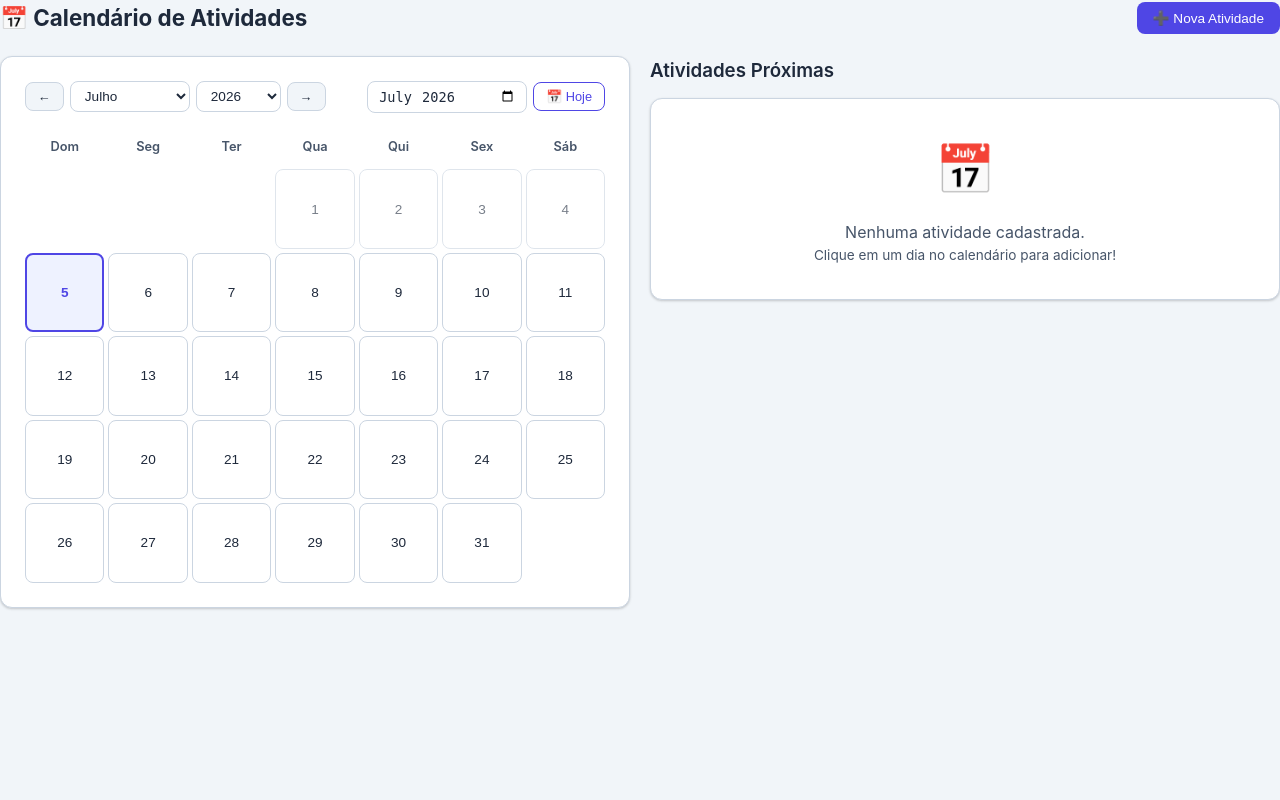
CalendarView › opens the new assignment modal when clicking 'Nova Atividade'
The image size is (1280, 800).
Click the button "➕ Nova Atividade": click(1208, 18) [1137,2,1279,34]
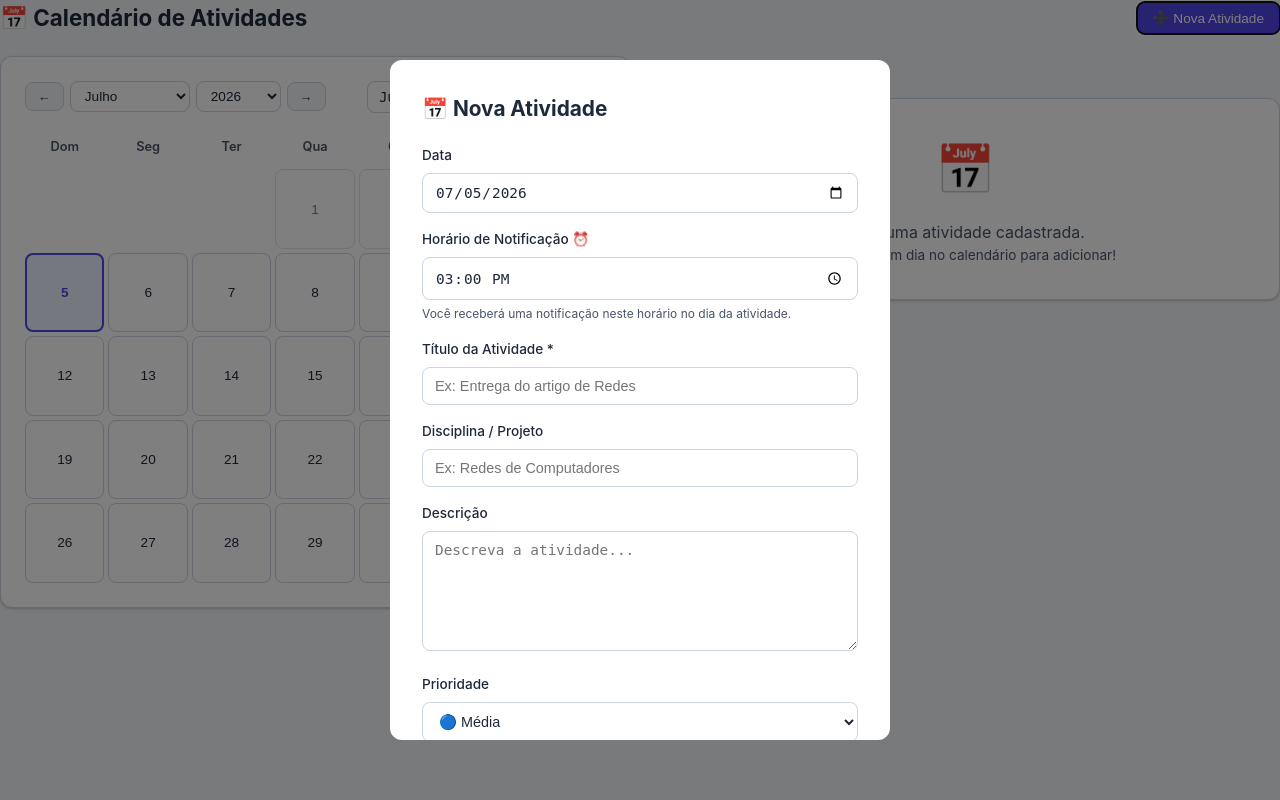
Expected: the heading "📅 Nova Atividade" is shown, [422,96,607,121]
